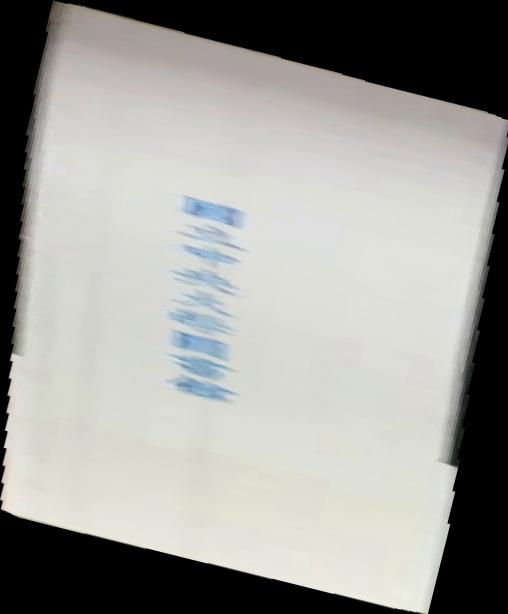backward: (1, 1, 508, 614)
